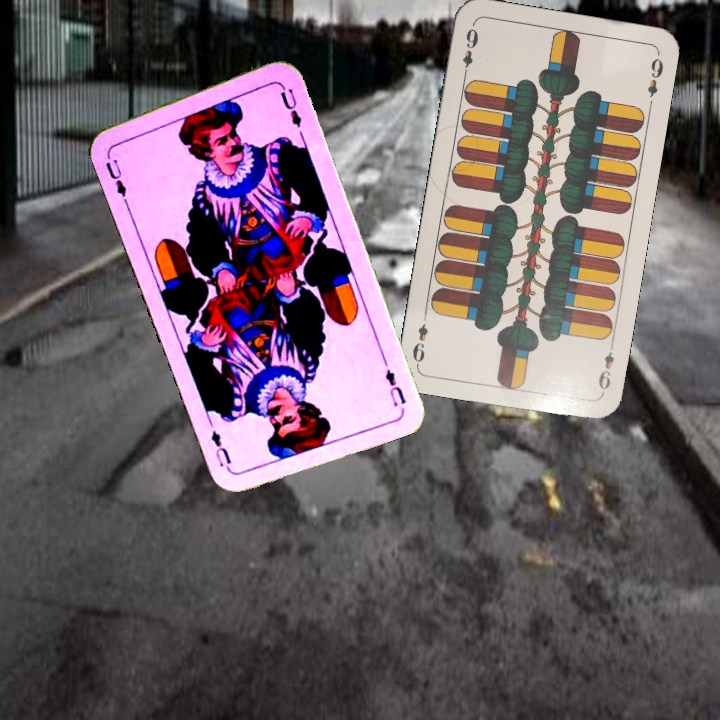E9: (458, 21, 481, 80), (594, 338, 617, 397)
EU: (101, 155, 129, 203), (381, 365, 409, 409)
